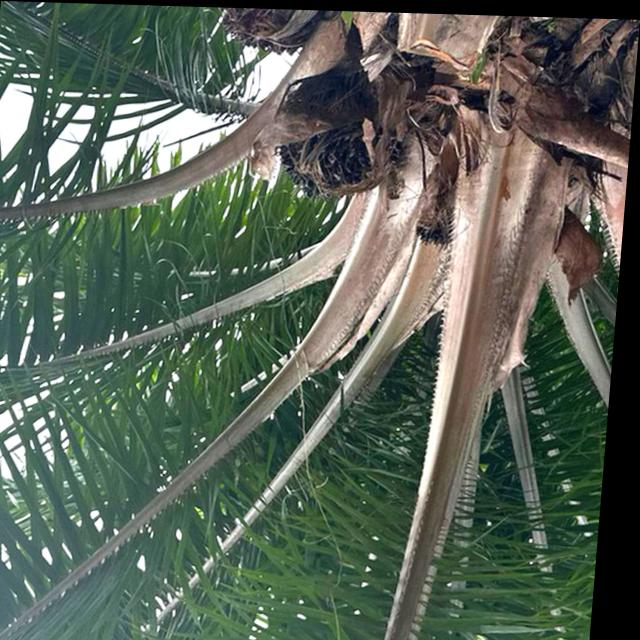unripe: (267, 114, 402, 201)
